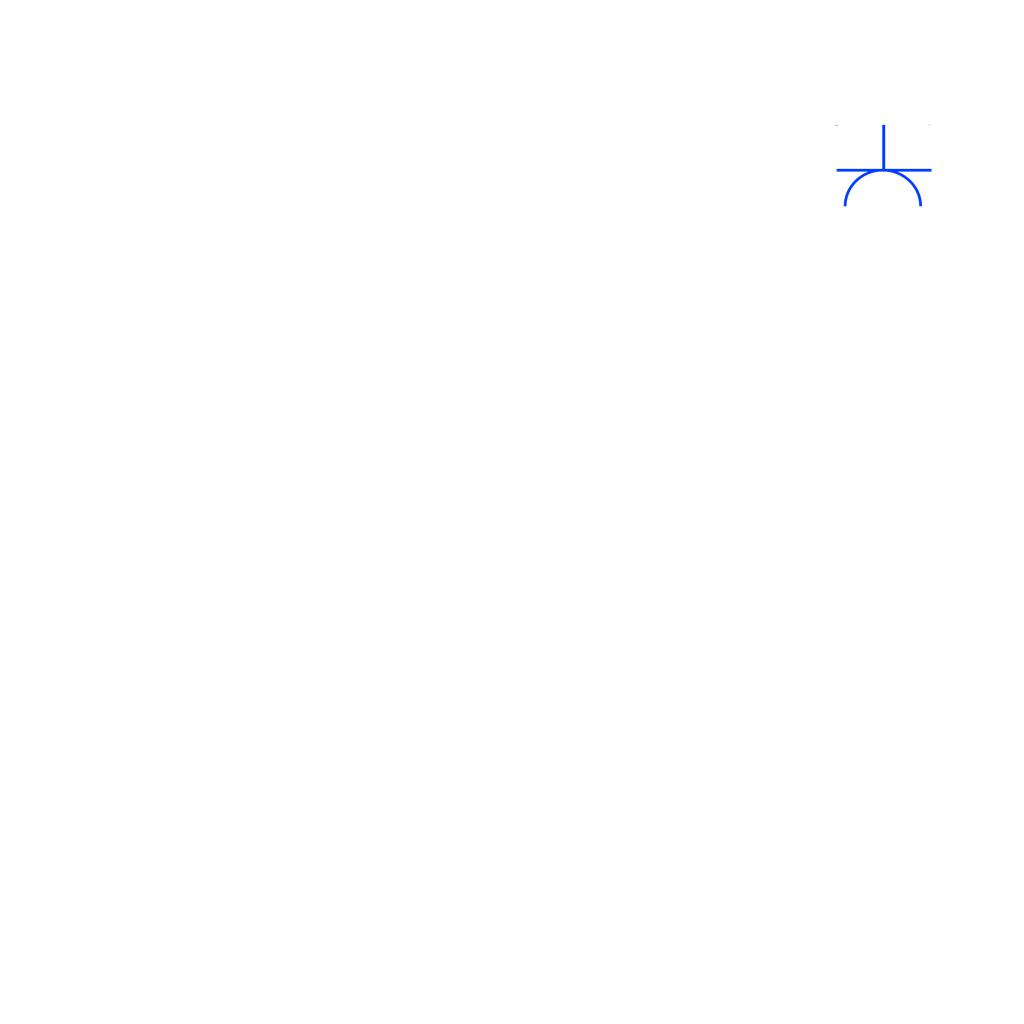Schukosteckdose_einfach: (833, 124, 933, 211)
